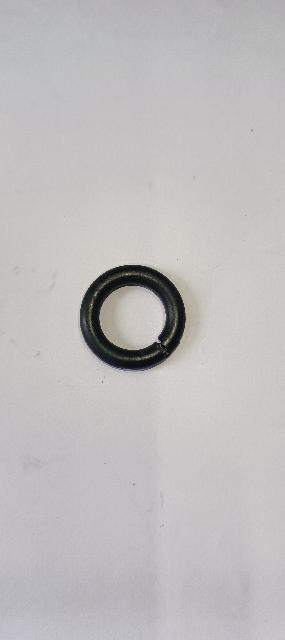crack: (155, 337, 172, 358)
scratch: (137, 350, 144, 369)
